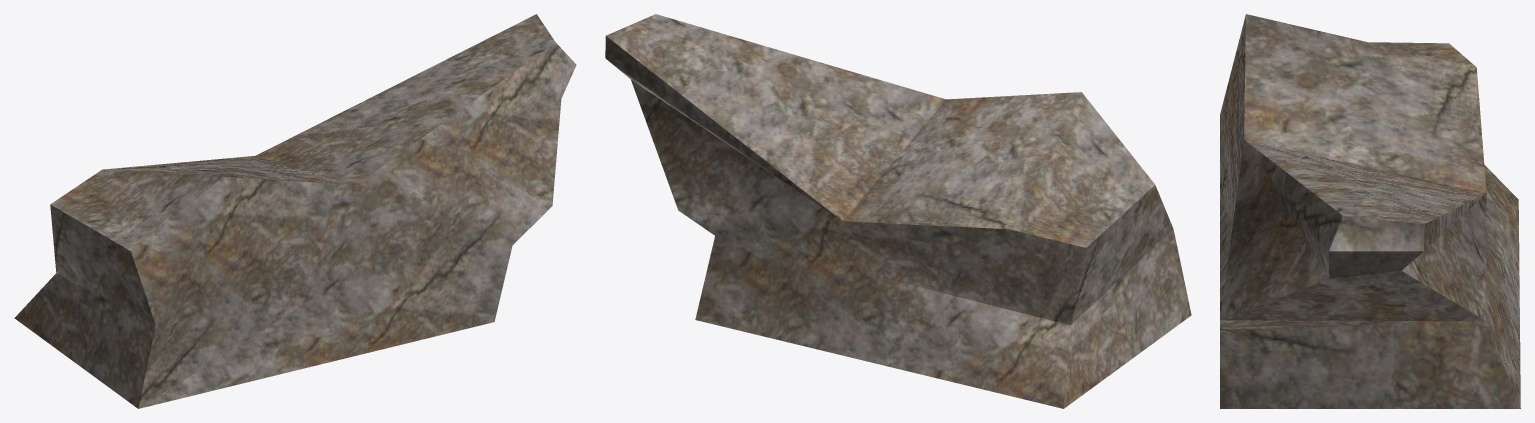
The model's file is RckS03.glb.
3 views of the same model, side by side, from view 1: azimuth 30°, elevation 25°; view 2: azimuth 150°, elevation 25°; view 3: azimuth 270°, elevation 25° (orthographic). The views are drawn at different scales.
Visible parts, largest first — view 1: _RckS03; view 2: _RckS03; view 3: _RckS03.
Part boxes in pixels (x1,y1,x2,y2): _RckS03: (14,14,576,408); _RckS03: (605,14,1191,408); _RckS03: (1220,14,1520,408).
Bounding box in the file's own units: 5.06 × 2.15 × 2.26.
1 material, 1 textured.
